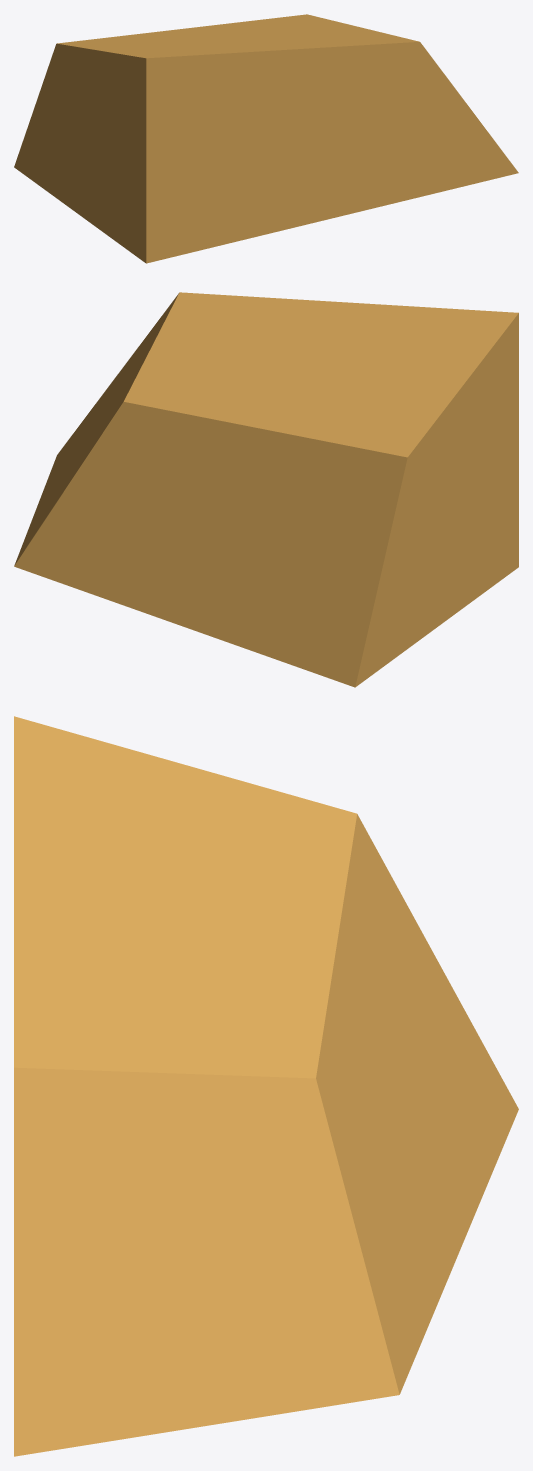
File: potatoEighth.fbx
The picture shows the model from 3 angles, top to bottom: view 1: azimuth 30°, elevation 25°; view 2: azimuth 150°, elevation 25°; view 3: azimuth 270°, elevation 25°; orthographic projection. The views are drawn at different scales.
Parts seen in each view (by area): view 1: potatoEighth; view 2: potatoEighth; view 3: potatoEighth.
Part boxes in pixels (x1,y1,x2,y2): potatoEighth: (14,14,518,263); potatoEighth: (14,292,518,687); potatoEighth: (14,716,518,1456).
Size of the model in its own units: 7.36 by 3.88 by 4.52.
Materials: 1 (1 with a texture image).
